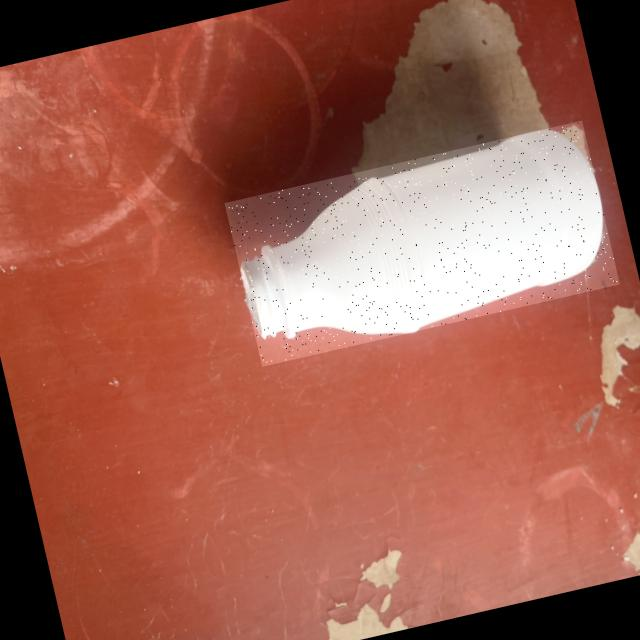HDPE_Bottle: (242, 130, 602, 338)
